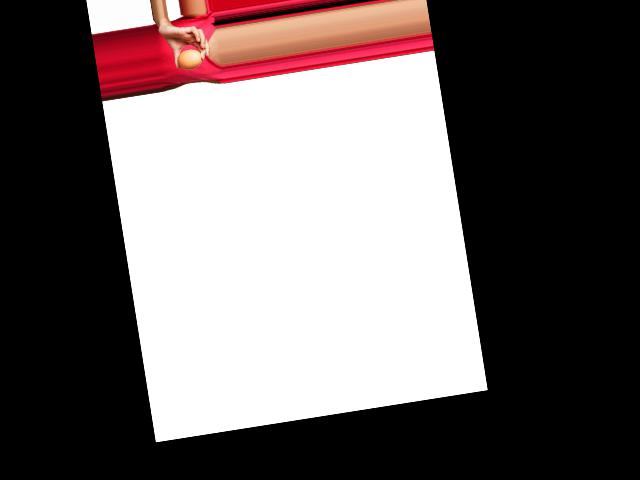egg: (175, 47, 203, 70)
